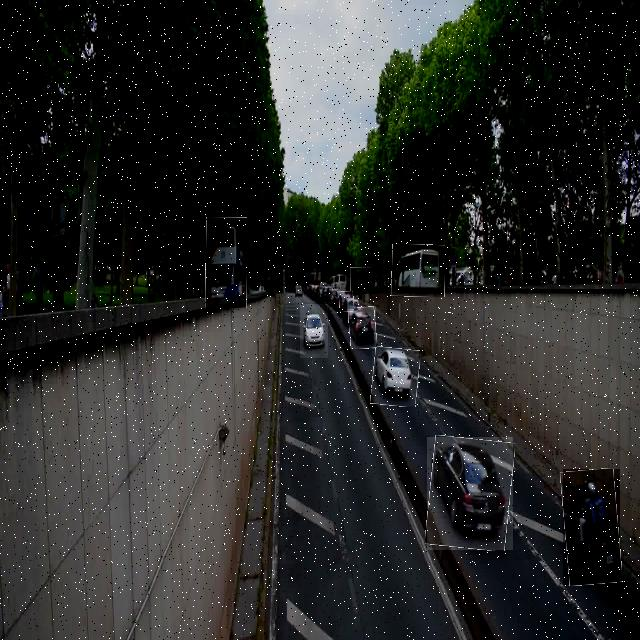Bus: (206, 217, 247, 308), (392, 244, 445, 297), (350, 267, 371, 294)
Car: (427, 437, 513, 550), (372, 347, 419, 406), (300, 304, 328, 358), (350, 306, 376, 349), (340, 292, 354, 312)
Motorcycle: (563, 469, 620, 585)
